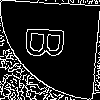B: (25, 25, 75, 62)
